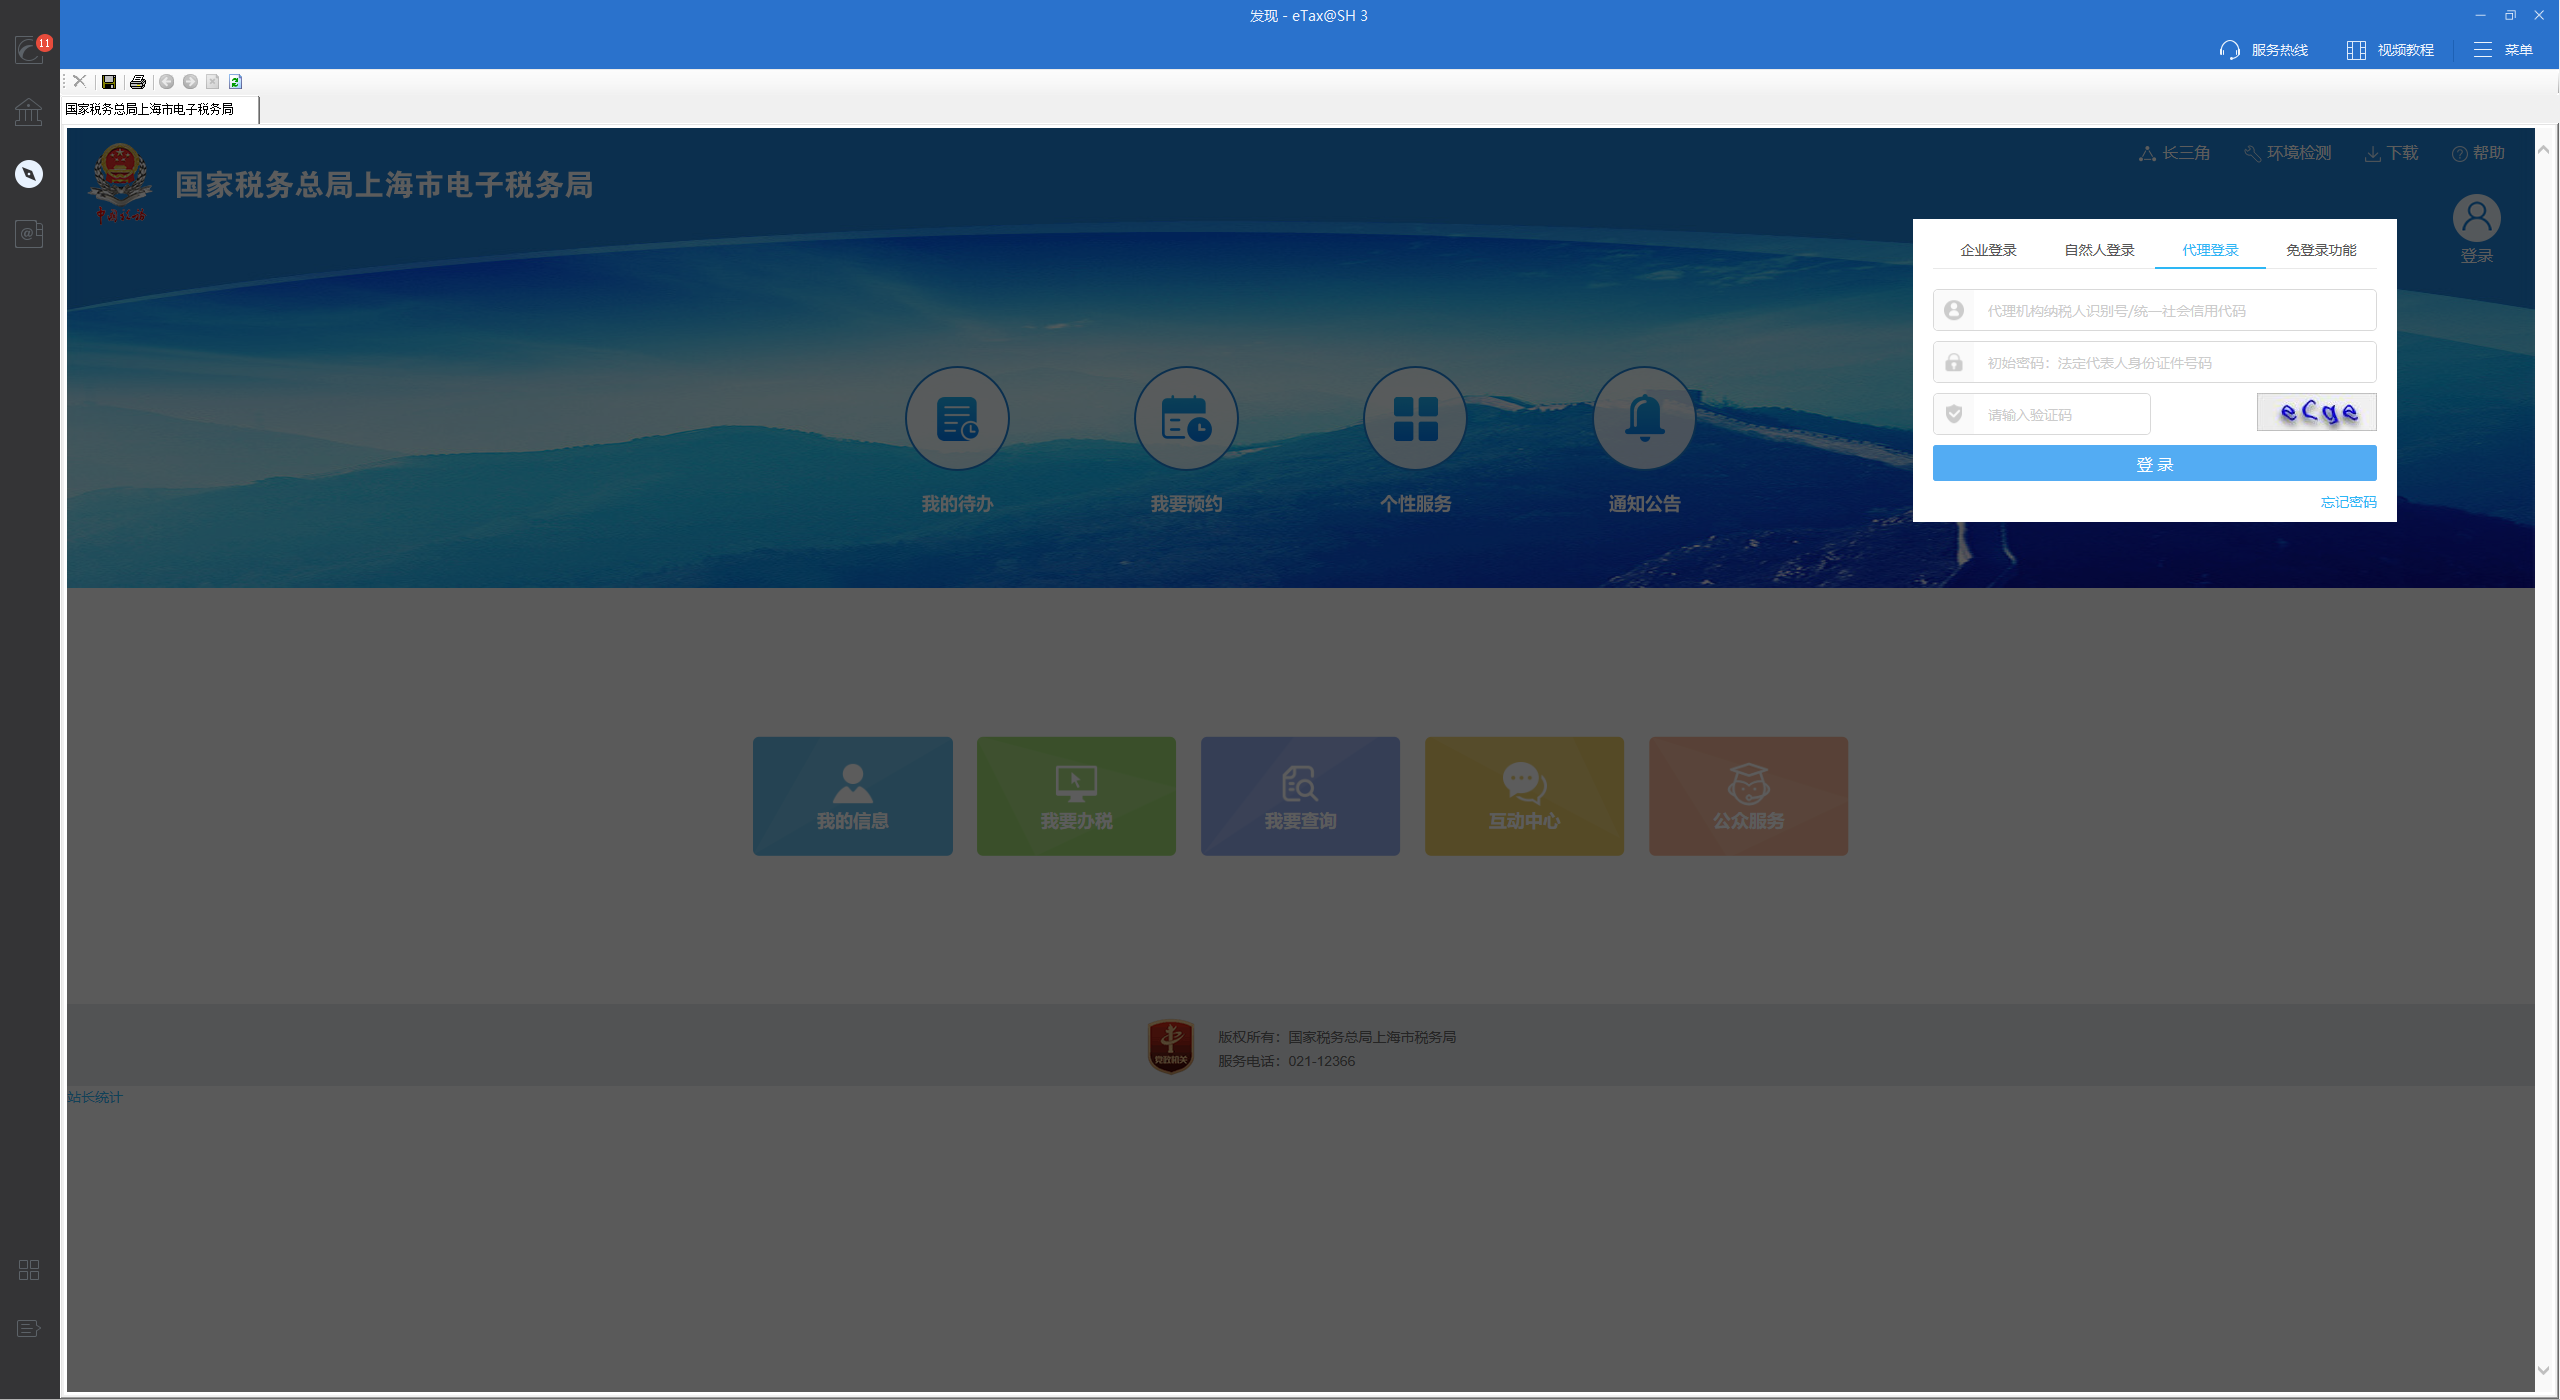character: (171, 166, 598, 207), (1988, 350, 2219, 374), (1993, 302, 2248, 322), (1215, 1024, 1464, 1045), (1252, 2, 1379, 29), (1217, 1053, 1369, 1071), (64, 103, 234, 117), (1608, 490, 1686, 516), (915, 491, 996, 514), (1265, 809, 1339, 833), (2284, 234, 2363, 257), (814, 812, 896, 831), (1986, 405, 2074, 422), (1712, 810, 1789, 829), (1377, 495, 1462, 512), (2115, 455, 2191, 474), (67, 1090, 126, 1110), (2274, 141, 2338, 160), (1157, 495, 1221, 514), (1041, 814, 1115, 829), (1491, 812, 1564, 828), (2381, 45, 2441, 60), (2253, 41, 2307, 59), (91, 207, 147, 222), (2184, 245, 2246, 259), (2320, 495, 2381, 509), (2458, 247, 2501, 266), (2165, 145, 2215, 160), (2065, 245, 2134, 255), (1965, 241, 2015, 255), (2388, 145, 2424, 164), (2470, 145, 2507, 159), (2508, 41, 2534, 59)
icon: (88, 141, 152, 205), (1157, 395, 1210, 445), (1146, 1019, 1195, 1074), (1620, 391, 1669, 445), (1389, 395, 1441, 443), (2274, 397, 2358, 424), (934, 395, 981, 443), (2451, 195, 2500, 241), (1502, 760, 1550, 807), (1726, 760, 1770, 807), (1053, 766, 1098, 805), (833, 762, 872, 803), (1279, 764, 1321, 803), (12, 34, 53, 66), (14, 159, 45, 190), (14, 219, 45, 248), (14, 97, 41, 126), (1939, 297, 1965, 322), (1943, 350, 1965, 374), (1943, 402, 1964, 424), (2345, 40, 2367, 60), (17, 1259, 40, 1279), (16, 1319, 41, 1336), (2219, 40, 2241, 59), (2138, 145, 2158, 164), (2472, 40, 2493, 59), (157, 71, 176, 90), (2243, 143, 2262, 162), (2363, 145, 2382, 164), (226, 72, 245, 90), (128, 72, 147, 90), (2450, 145, 2469, 162), (181, 72, 198, 90), (203, 72, 221, 90), (100, 72, 117, 90), (71, 72, 88, 88), (2536, 141, 2551, 155), (2531, 7, 2546, 21), (2474, 9, 2488, 22), (2536, 1362, 2550, 1376), (2503, 9, 2517, 21)
